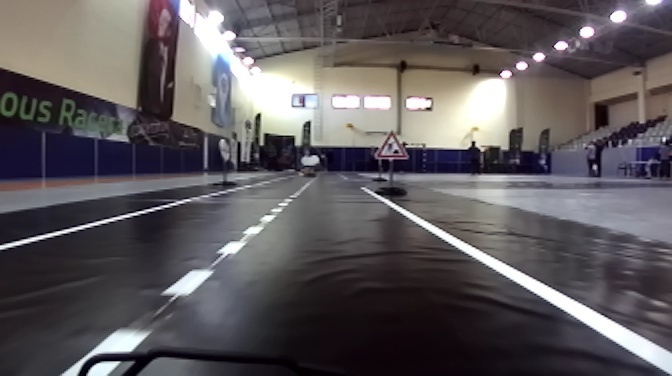yol_yapimi: (371, 132, 415, 159)
